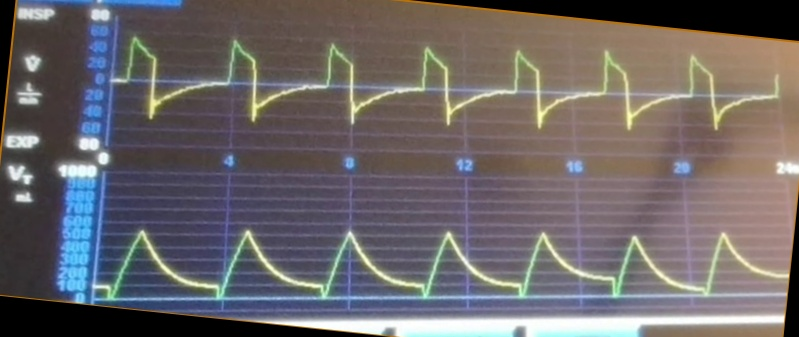Flow: (120, 33, 735, 148)
Leakage Volume: (100, 220, 780, 306)
